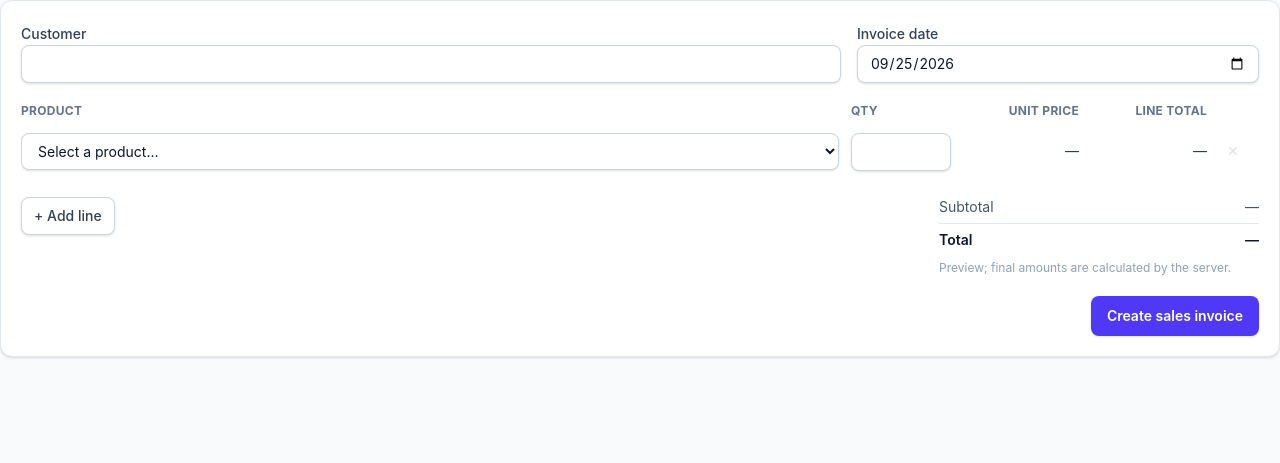
SaleForm › names unknown products on 404
Type "Buyer" into the field labelled "Customer".
click(431, 64); type("Buyer")  # box [21, 45, 841, 83]
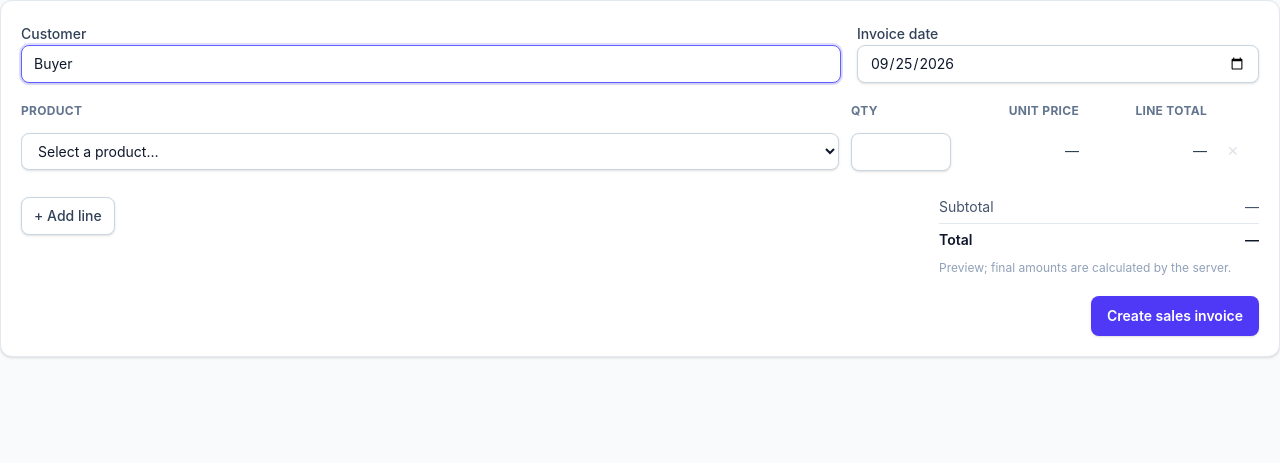
Select "Wireless Mouse (MS-WL-002) · 120 in stock · AED 24.50" in the dropdown named "Product for line 1" at (430,152), box [21, 133, 839, 170]
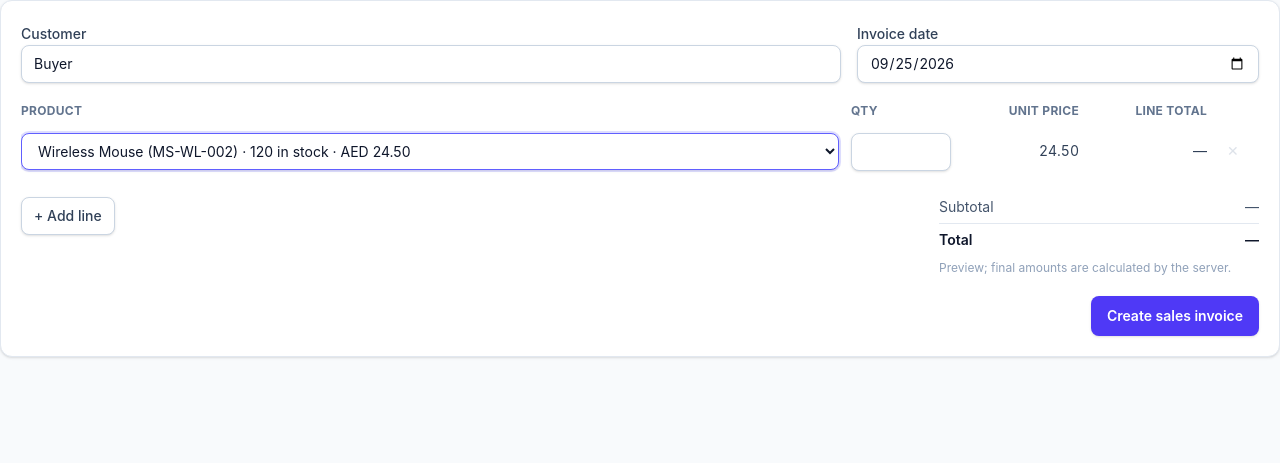
Type "1" into the number field named "Quantity for line 1".
click(901, 152); type("1")  # box [851, 133, 951, 171]
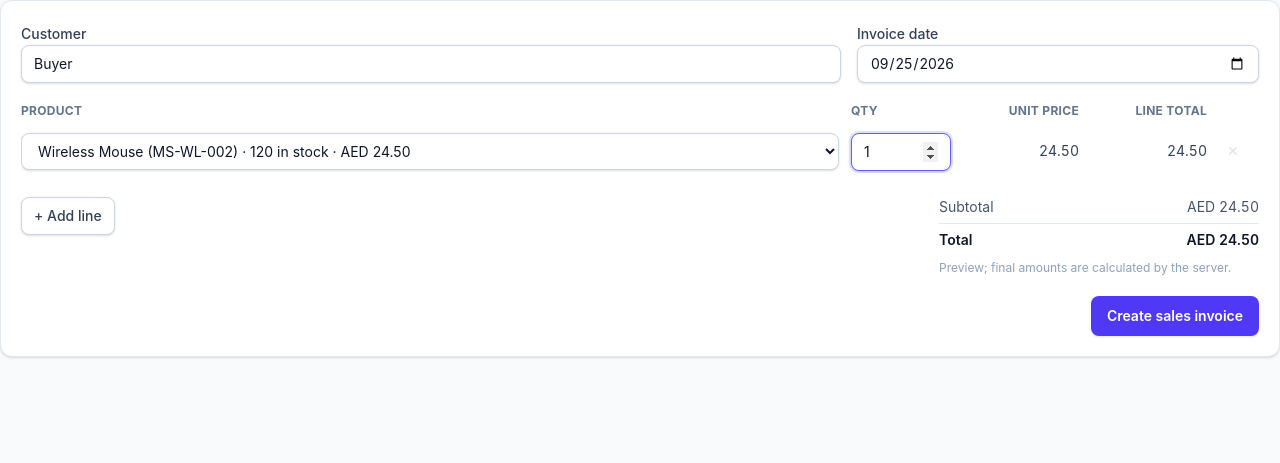
Click the button "Create sales invoice".
click(1175, 316)  # box [1091, 296, 1259, 336]
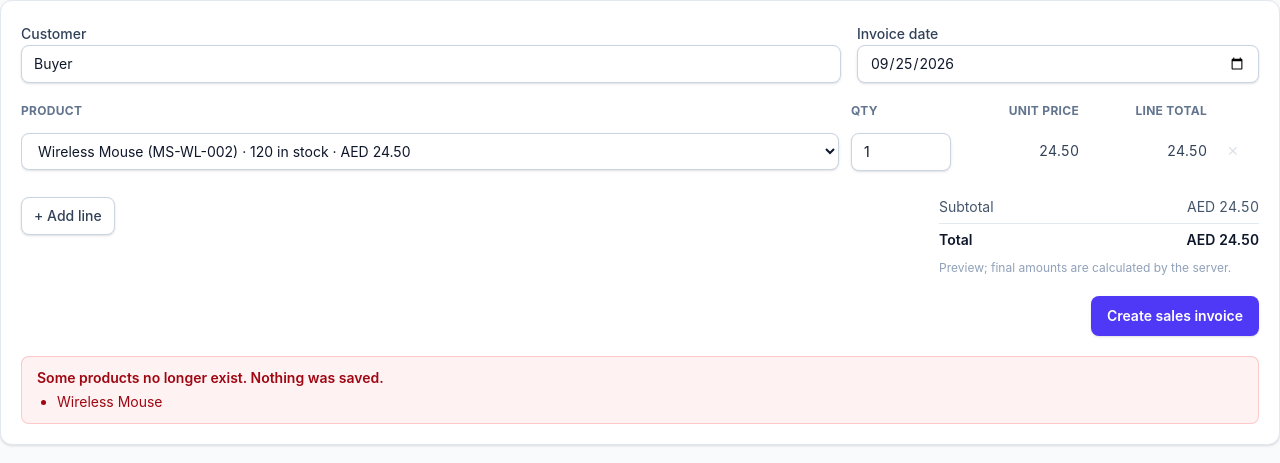
Expected: the message reads "Some products no longer exist. Nothing was saved. Wireless Mouse", [21, 356, 1259, 424]
